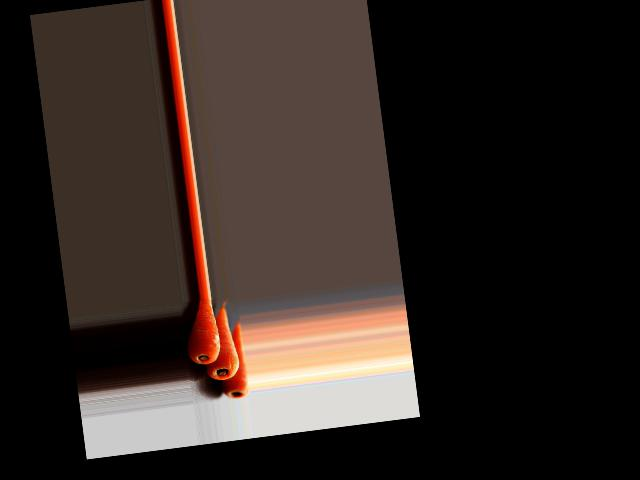carrot: (211, 322, 248, 391)
